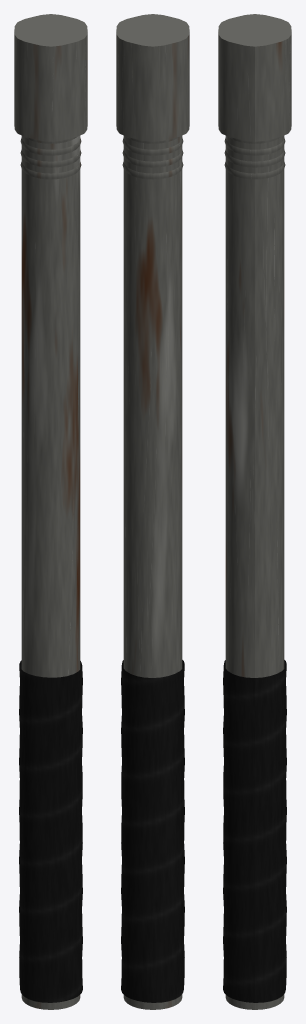
File: lead_pipe.glb
The picture shows the model from 3 angles, left to right: view 1: azimuth 90°, elevation 25°; view 2: azimuth 150°, elevation 25°; view 3: azimuth 270°, elevation 25°; orthographic projection.
Parts seen in each view (by area): view 1: LeadPipe_Clean_pipe, LeadPipe_Clean_tape; view 2: LeadPipe_Clean_pipe, LeadPipe_Clean_tape; view 3: LeadPipe_Clean_pipe, LeadPipe_Clean_tape.
Part boxes in pixels (<box>): LeadPipe_Clean_pipe: <box>14,14,87,1009</box>; LeadPipe_Clean_tape: <box>19,660,82,1002</box>; LeadPipe_Clean_pipe: <box>116,14,189,1009</box>; LeadPipe_Clean_tape: <box>121,660,184,1002</box>; LeadPipe_Clean_pipe: <box>218,14,291,1009</box>; LeadPipe_Clean_tape: <box>223,660,286,1002</box>.
Bounding box in the file's own units: 0.0442 × 0.61 × 0.0418.
Materials: 2 (2 with a texture image).
